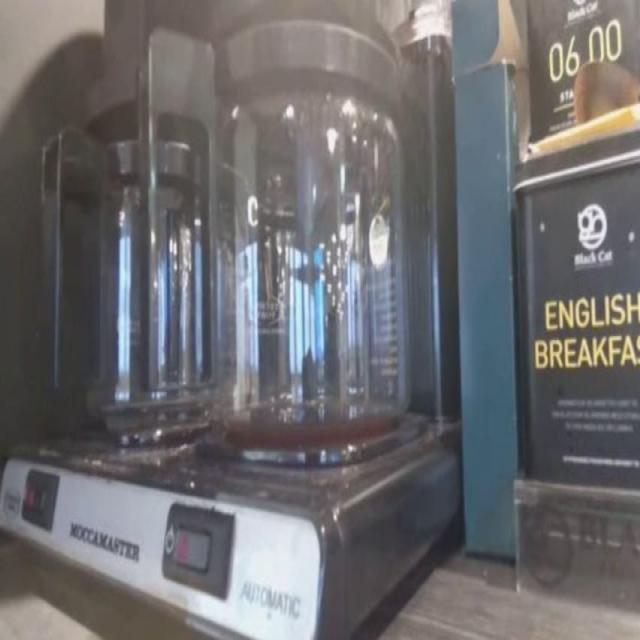nocoffee: (214, 112, 413, 434), (89, 195, 199, 427)
